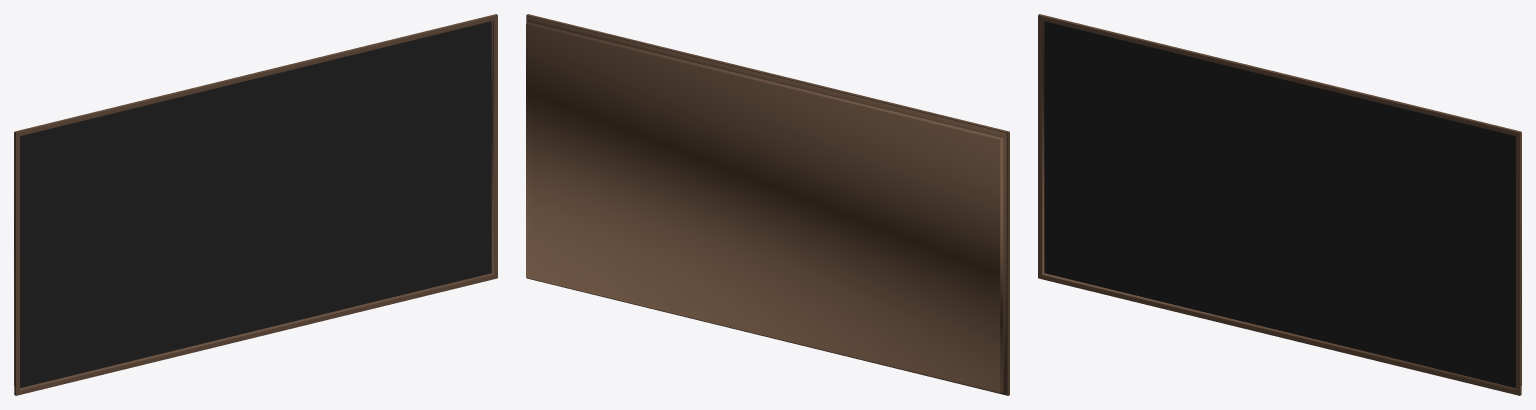
File: Lavagna 1 (1).fbx
The picture shows the model from 3 angles, left to right: view 1: azimuth 30°, elevation 25°; view 2: azimuth 150°, elevation 25°; view 3: azimuth 330°, elevation 25°; orthographic projection.
Visible parts, largest first — view 1: Plane; view 2: Plane; view 3: Plane.
Boxes of the visible parts, <box> form: Plane: <box>14,14,497,395</box>; Plane: <box>526,14,1009,395</box>; Plane: <box>1038,14,1521,395</box>.
Size of the model in its own units: 230 by 120 by 4.83.
